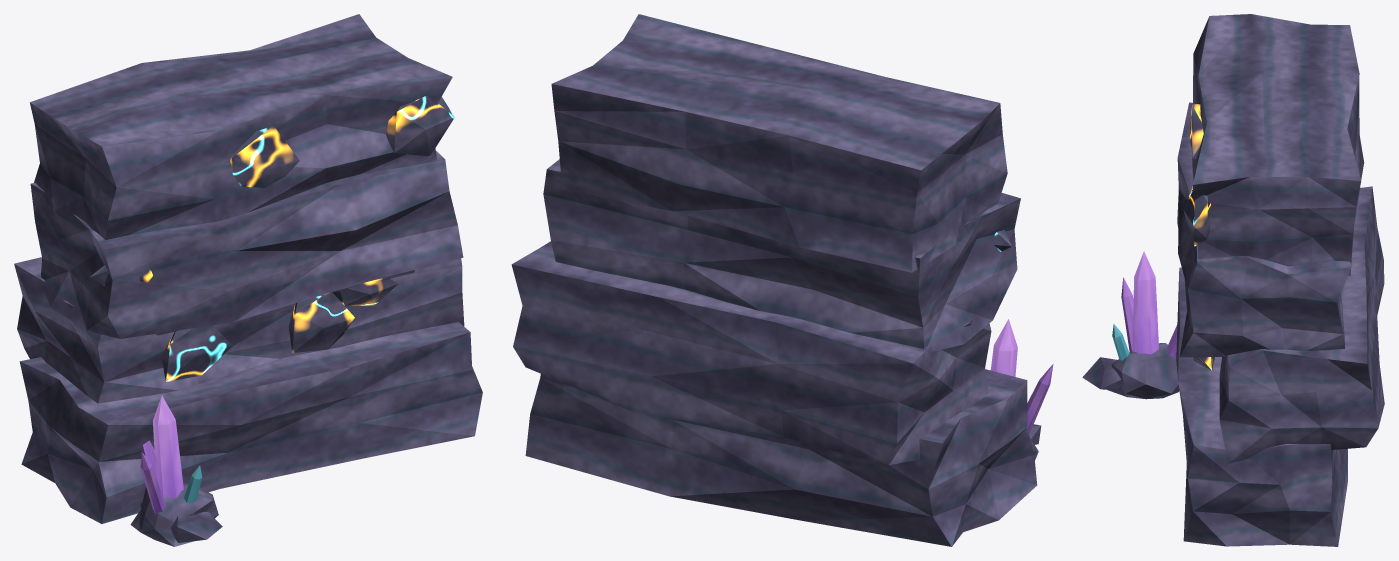
File: ore_wall.glb
The picture shows the model from 3 angles, left to right: view 1: azimuth 30°, elevation 25°; view 2: azimuth 150°, elevation 25°; view 3: azimuth 270°, elevation 25°; orthographic projection. The views are drawn at different scales.
Parts seen in each view (by area): view 1: ore_wall; view 2: ore_wall; view 3: ore_wall.
Part boxes in pixels (x1=…): ore_wall: x1=14, y1=14, x2=482, y2=546; ore_wall: x1=511, y1=14, x2=1053, y2=546; ore_wall: x1=1082, y1=14, x2=1384, y2=546.
Bounding box in the file's own units: 3.99 × 3.6 × 2.74.
Materials: 5 (5 with a texture image).
